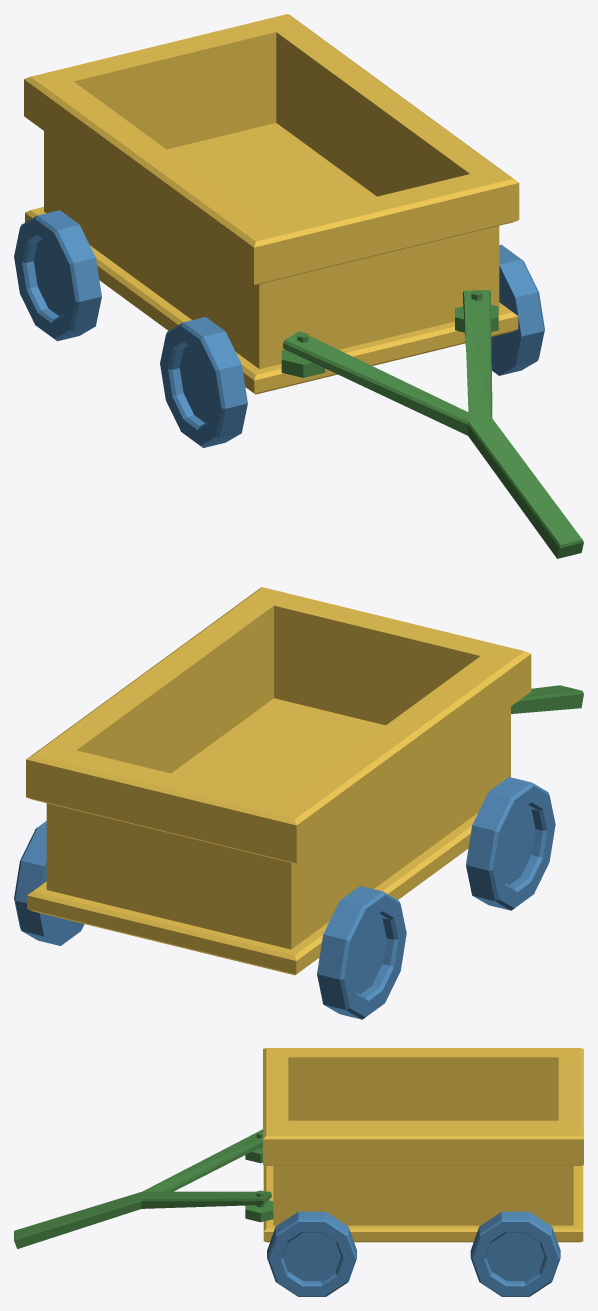
Rendered from cart_a_726.gltf.
3 renders of one model, top to bottom at view 1: azimuth 30°, elevation 25°; view 2: azimuth 150°, elevation 25°; view 3: azimuth 270°, elevation 25°, orthographic. The views are drawn at different scales.
Visible parts, largest first — view 1: body, wheel_5, wheel_2, wheel_1, wheel_4, wheel_9; view 2: body, wheel_2, wheel_5, wheel_1, wheel_4, wheel_6; view 3: body, wheel_11, wheel_8, wheel_7, wheel_10.
Boxes of the visible parts, left/top/right/bottom form: body: left=20, top=14, right=583, bottom=558; wheel_5: left=14, top=219, right=75, bottom=338; wheel_2: left=160, top=326, right=221, bottom=445; wheel_1: left=179, top=345, right=213, bottom=422; wheel_4: left=33, top=238, right=67, bottom=316; wheel_9: left=491, top=265, right=521, bottom=375; body: left=14, top=587, right=583, bottom=1019; wheel_2: left=493, top=786, right=555, bottom=908; wheel_5: left=344, top=895, right=406, bottom=1017; wheel_1: left=501, top=806, right=535, bottom=885; wheel_4: left=352, top=915, right=386, bottom=994; wheel_6: left=39, top=862, right=84, bottom=945; body: left=14, top=1048, right=583, bottom=1296; wheel_11: left=269, top=1222, right=354, bottom=1295; wheel_8: left=473, top=1222, right=558, bottom=1295; wheel_7: left=486, top=1232, right=544, bottom=1280; wheel_10: left=283, top=1232, right=340, bottom=1280.
Bounding box in the file's own units: 0.607 × 0.3883 × 1.33.
1 material, 1 textured.
